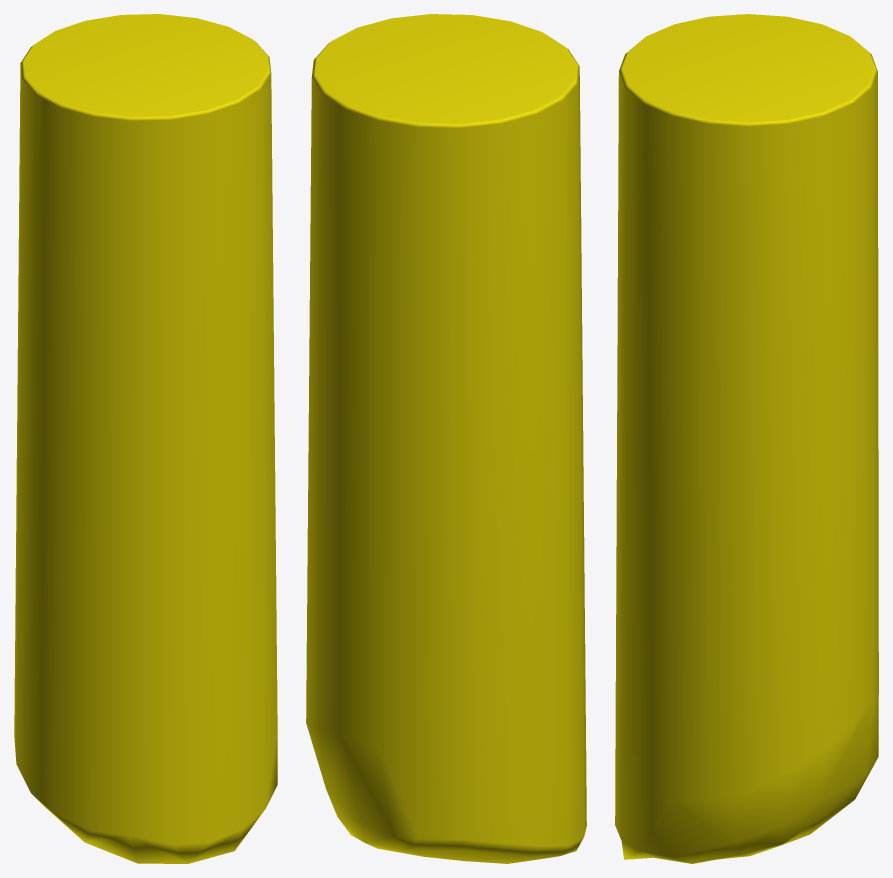
The model's file is Pillar_Break_03_Lod0.fbx.
3 views of the same model, side by side, from view 1: azimuth 30°, elevation 25°; view 2: azimuth 150°, elevation 25°; view 3: azimuth 270°, elevation 25° (orthographic). The views are drawn at different scales.
Visible parts, largest first — view 1: Pillar_Break_03_Lod0; view 2: Pillar_Break_03_Lod0; view 3: Pillar_Break_03_Lod0.
Part boxes in pixels (x1,y1,x2,y2): Pillar_Break_03_Lod0: (14,14,277,863); Pillar_Break_03_Lod0: (306,14,586,863); Pillar_Break_03_Lod0: (615,14,878,863).
Bounding box in the file's own units: 260 × 808 × 248.
